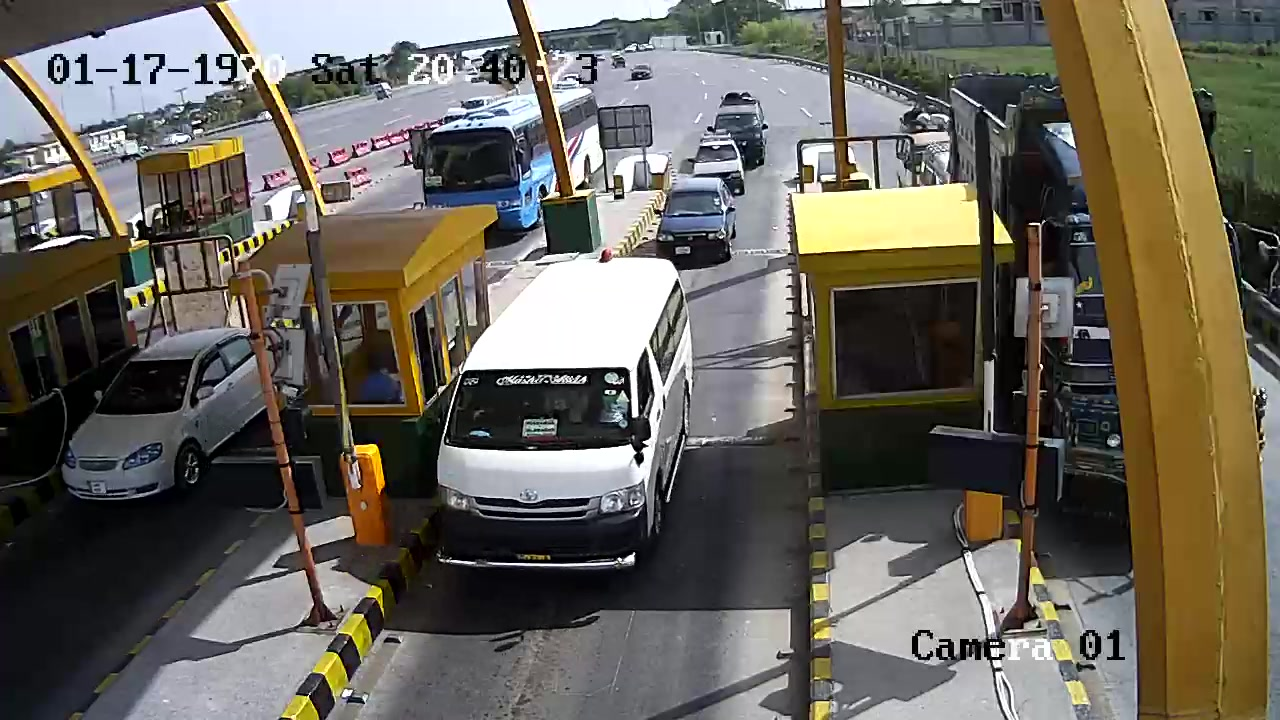F3: (424, 251, 707, 589)
